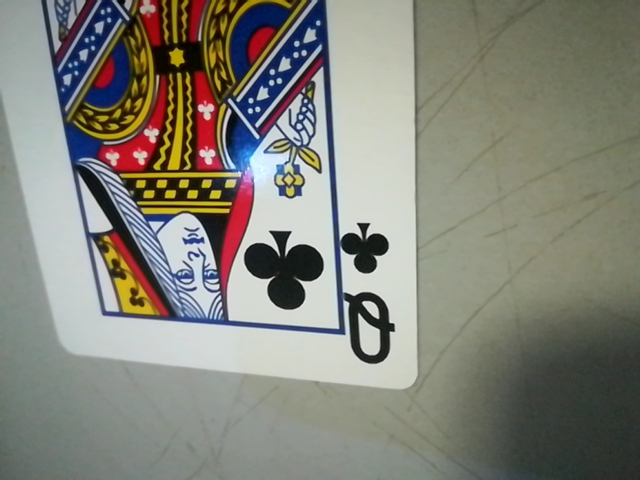mh q: (330, 216, 410, 375)
